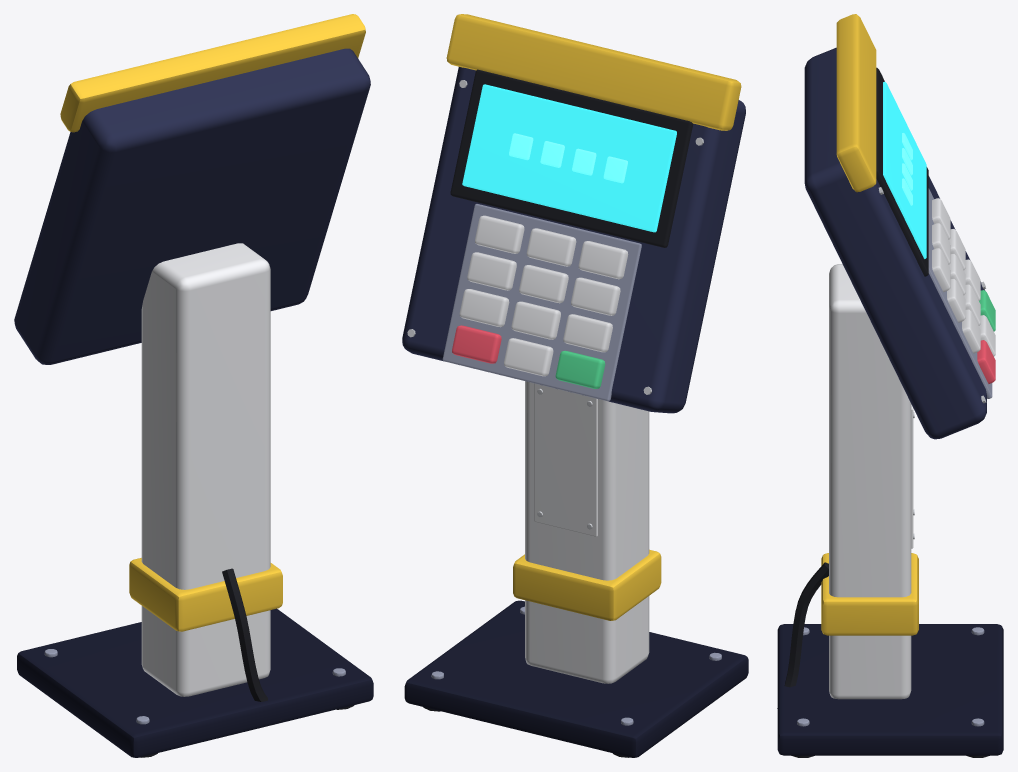
Rendered from task_keypad.glb.
3 views of the same model, side by side, from view 1: azimuth 30°, elevation 25°; view 2: azimuth 150°, elevation 25°; view 3: azimuth 270°, elevation 25° (orthographic). The views are drawn at different scales.
Visible parts, largest first — view 1: Body; view 2: Body; view 3: Body.
Part boxes in pixels (<box>): Body: <box>14,14,373,757</box>; Body: <box>402,14,748,757</box>; Body: <box>777,14,1003,757</box>.
Size of the model in its own units: 0.62 by 1.35 by 0.4406.
